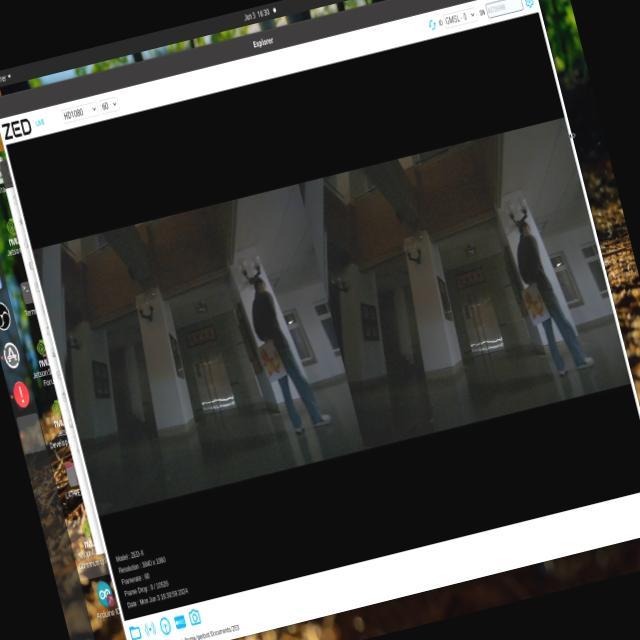red: (522, 284, 558, 334), (258, 339, 286, 378)
